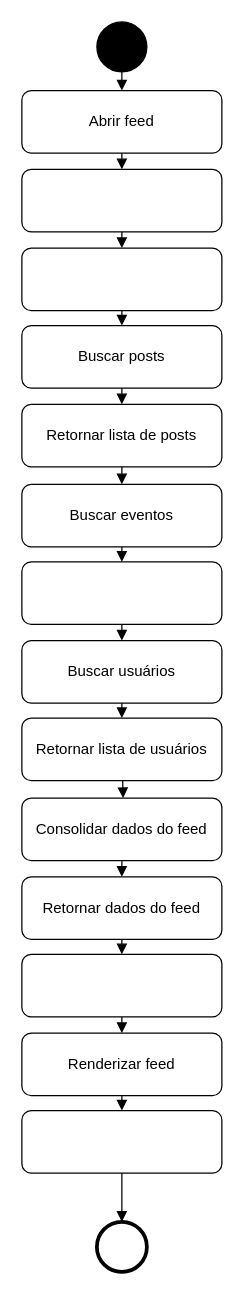
This 244x1295 diagram has some shape labels left out. The shapes that lost their labels are listed below. From the top down, each one's box as (x1, y1, x2, y2) in pixels, then its label:
(21, 168, 222, 232): Solicitar feed
(21, 247, 222, 311): Buscar dados do feed
(21, 561, 222, 624): Retornar lista de eventos
(21, 953, 222, 1017): Enviar dados ao Front
(21, 1109, 222, 1173): Exibir feed
